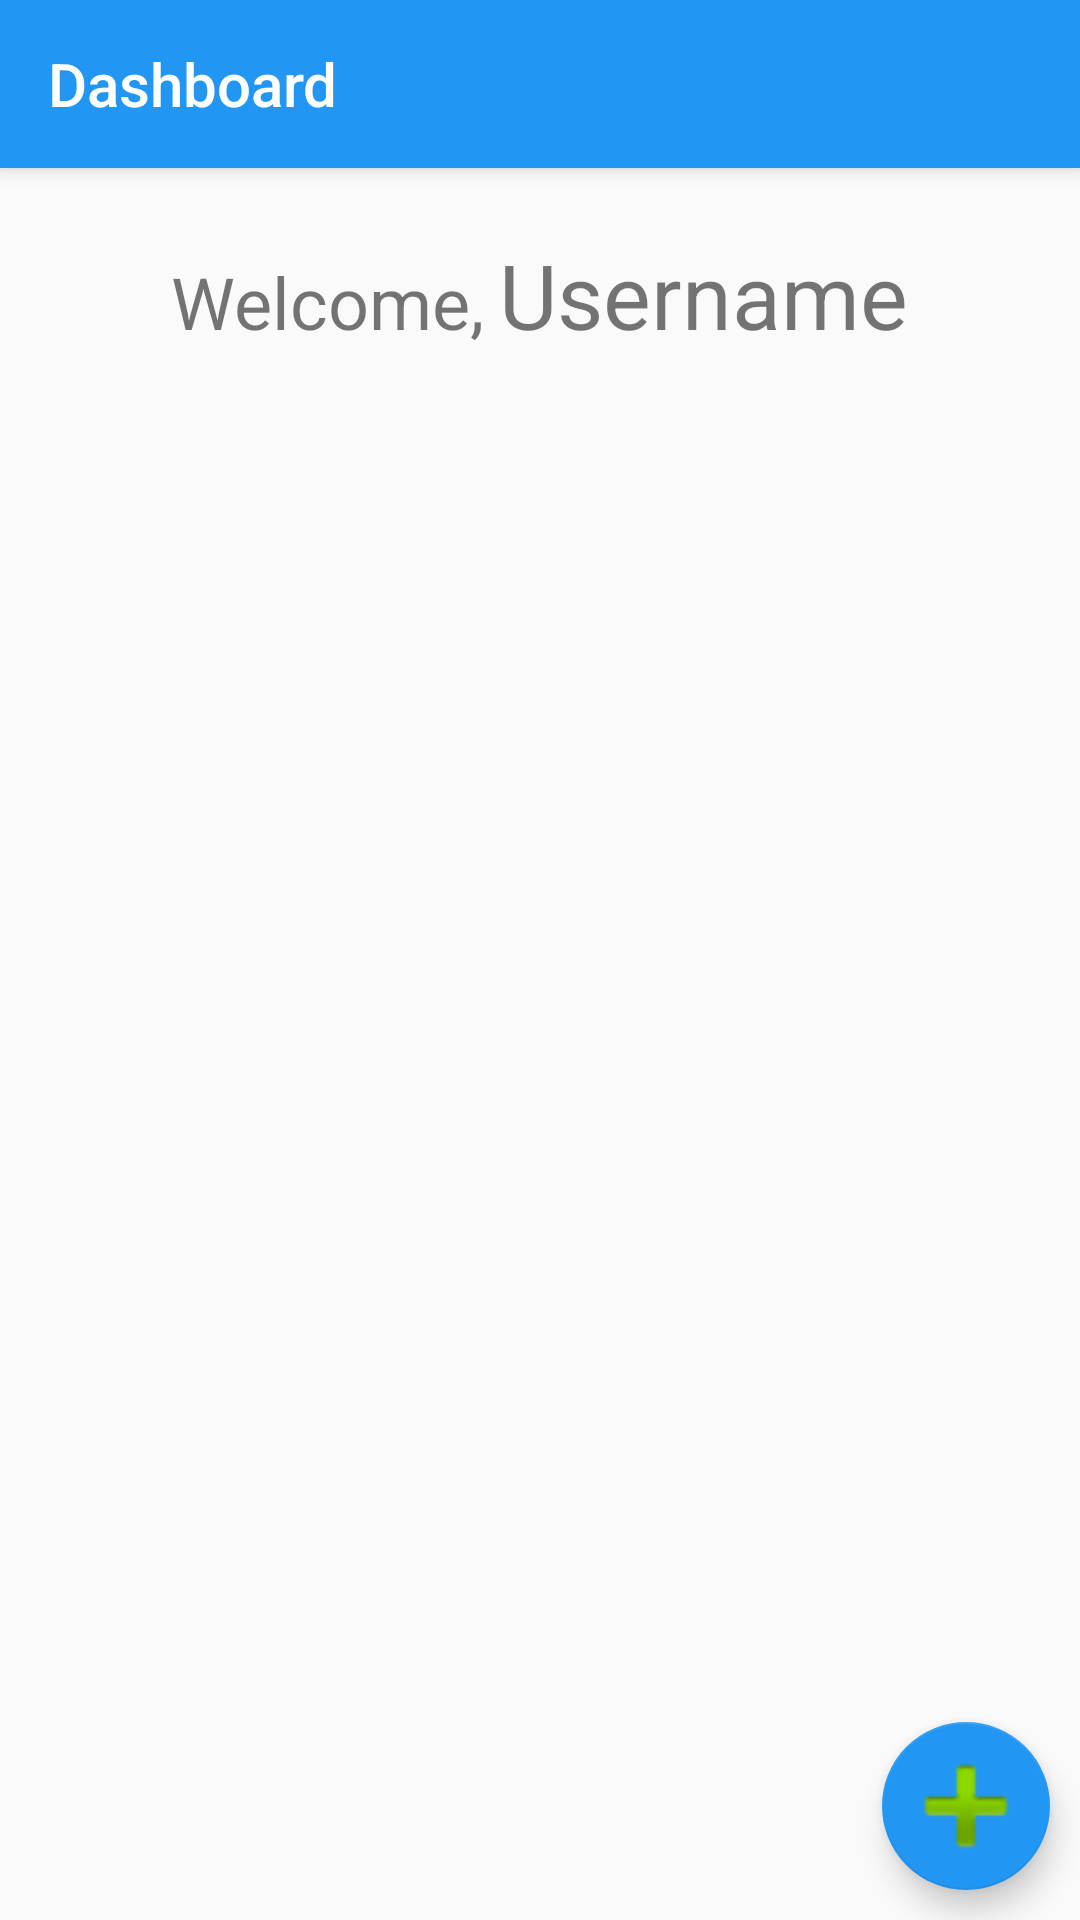

Screen size 1080 x 1920. Icon name, then its box in pixels as (x1, y1, x2, y2):
add: (882, 1722, 1050, 1890)
